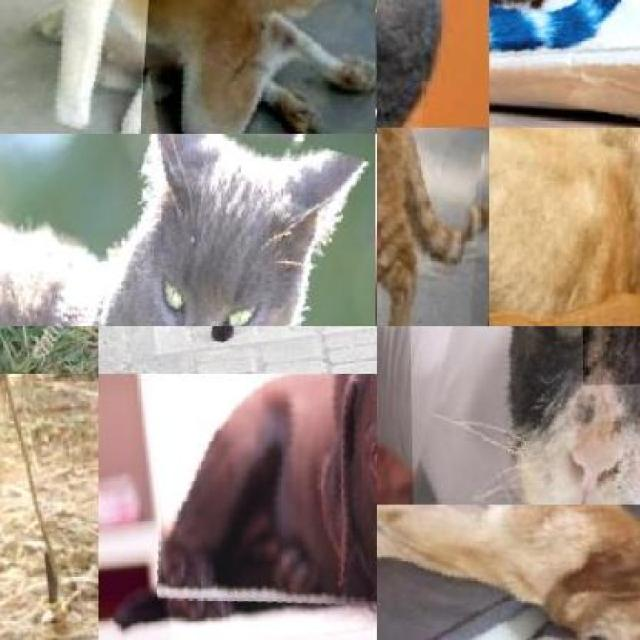buffalo: (0, 374, 58, 640)
cat: (0, 133, 375, 326), (404, 326, 640, 504), (377, 128, 489, 326), (489, 0, 640, 128)
cow: (489, 128, 640, 326), (489, 265, 640, 326)
dog: (134, 374, 377, 640), (0, 0, 369, 134), (377, 504, 640, 640)
injured: (134, 0, 375, 134)
